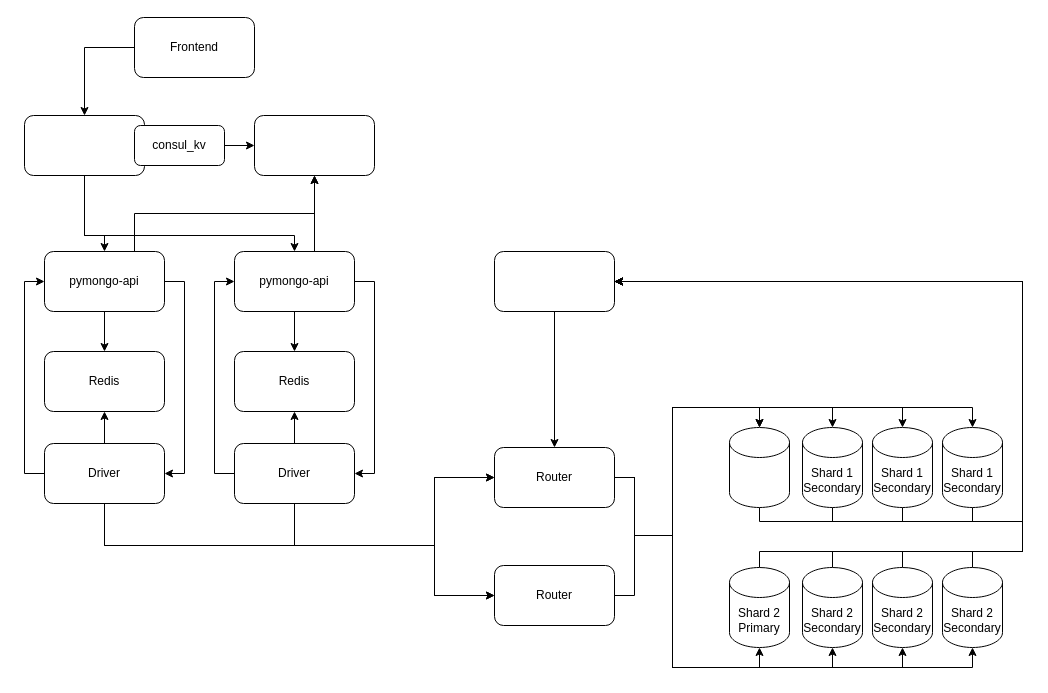
This 1048x693 diagram has some shape labels left out. Here are the shapes that lost their labels. From the top down, the centre of each, then its label:
(84,145): APISIX Gateway
(314,145): Consul
(554,281): Config Server
(759,467): Shard 1 Primary
